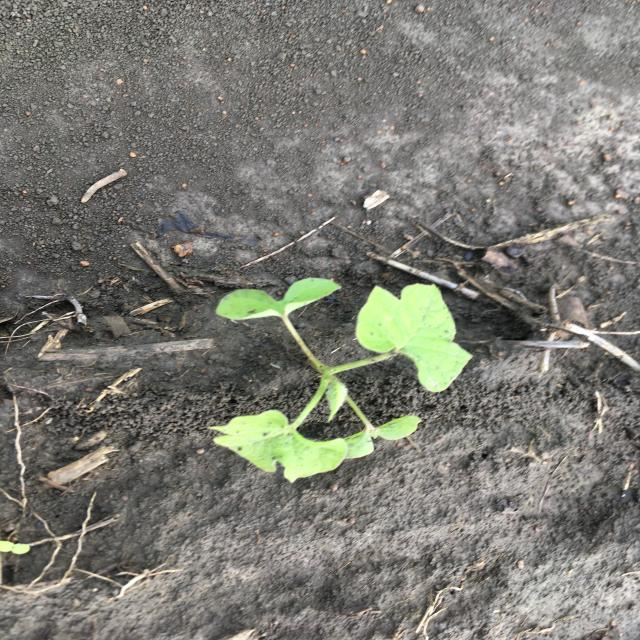MorningGlory: (206, 275, 477, 485)
